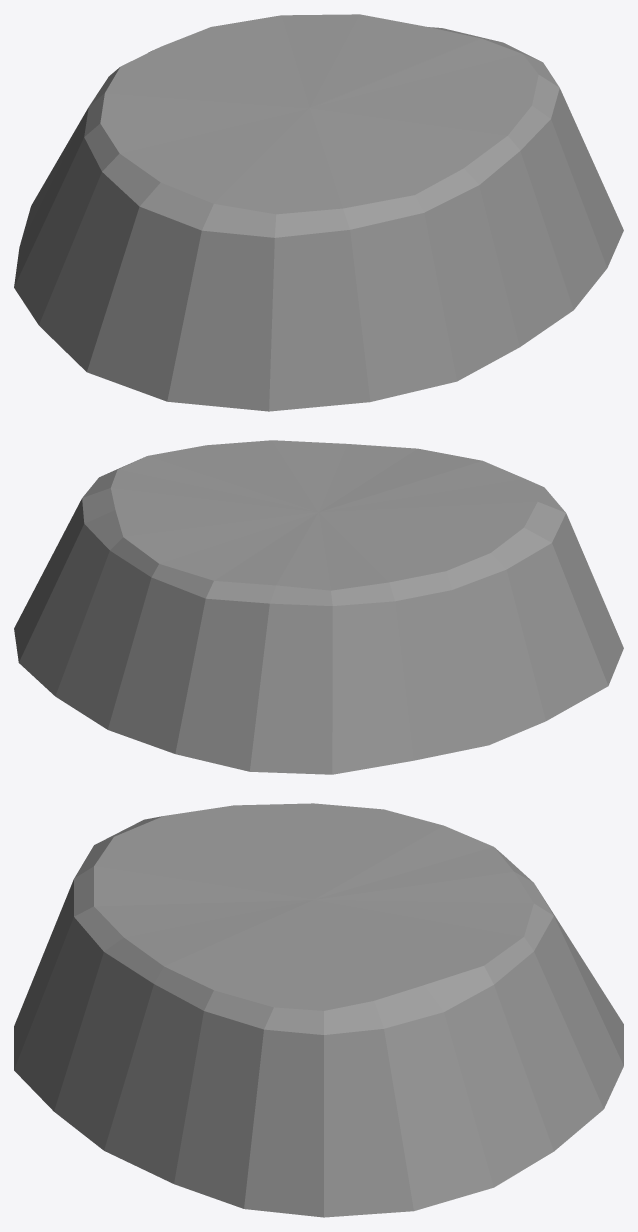
File: Rock.FBX
The picture shows the model from 3 angles, top to bottom: view 1: azimuth 30°, elevation 25°; view 2: azimuth 150°, elevation 25°; view 3: azimuth 270°, elevation 25°; orthographic projection. The views are drawn at different scales.
Parts seen in each view (by area): view 1: Rock; view 2: Rock; view 3: Rock.
Boxes of the visible parts, left/top/right/bottom form: Rock: left=14, top=14, right=623, bottom=411; Rock: left=14, top=440, right=623, bottom=774; Rock: left=14, top=803, right=623, bottom=1217.
Bounding box in the file's own units: 70.22 × 19.94 × 63.44.
